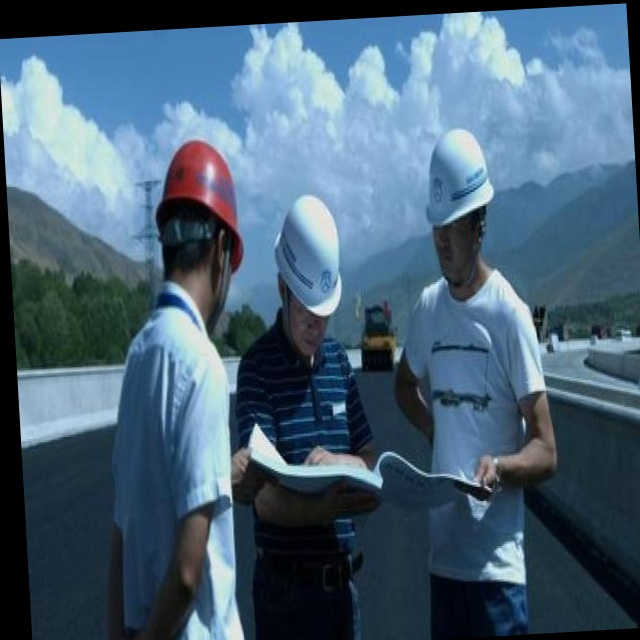Con_Casco: (270, 194, 347, 353)
